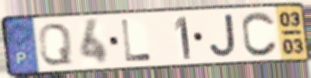1: (173, 15, 193, 60)
4: (78, 16, 111, 69)
C: (240, 10, 279, 58)
J: (208, 12, 238, 59)
L: (119, 18, 154, 63)
Q: (37, 22, 75, 67)
